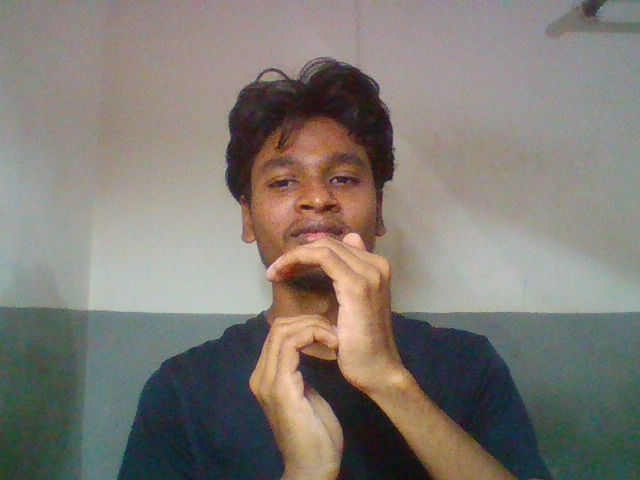S: (233, 222, 415, 480)
